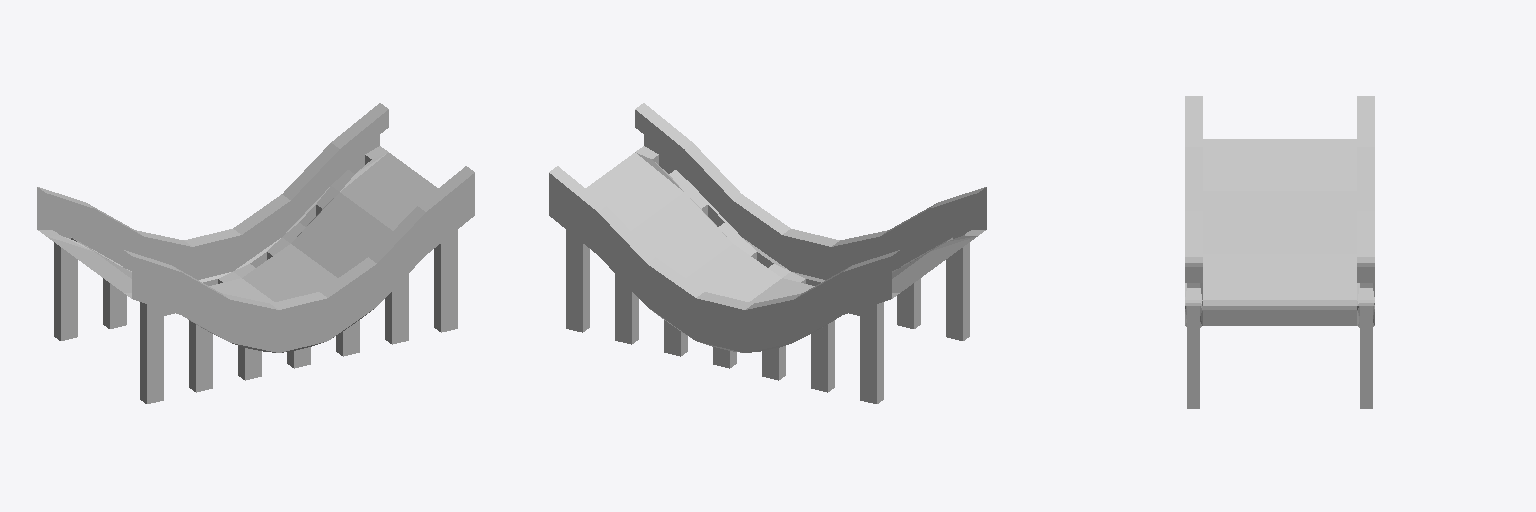
The model's file is bridgeinteredge.obj.
3 views of the same model, side by side, from view 1: azimuth 30°, elevation 25°; view 2: azimuth 150°, elevation 25°; view 3: azimuth 270°, elevation 25° (orthographic).
Parts seen in each view (by area): view 1: polySurface1 pCube14; view 2: polySurface1 pCube14; view 3: polySurface1 pCube14.
Boxes of the visible parts, x1,y1,x2,y2 form: polySurface1 pCube14: [37, 103, 474, 403]; polySurface1 pCube14: [549, 103, 986, 403]; polySurface1 pCube14: [1185, 96, 1374, 408].
Size of the model in its own units: 2.5 by 1.07 by 1.2.